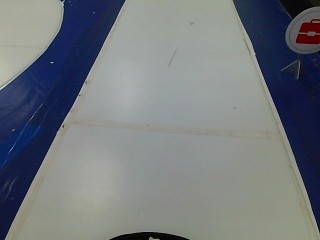company: (294, 15, 318, 52)
